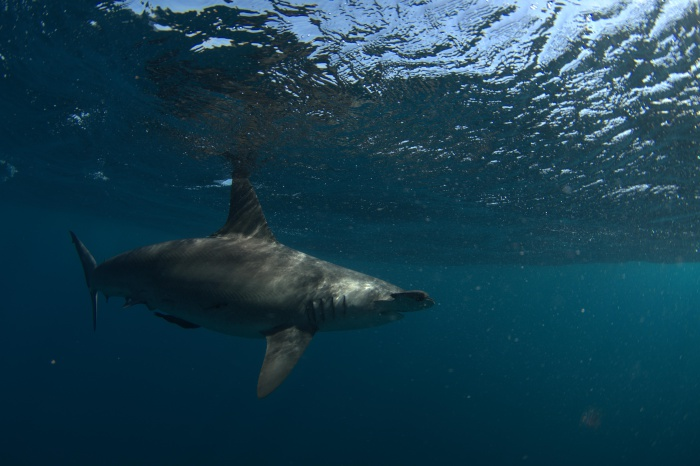Hammer: (45, 155, 458, 407)
